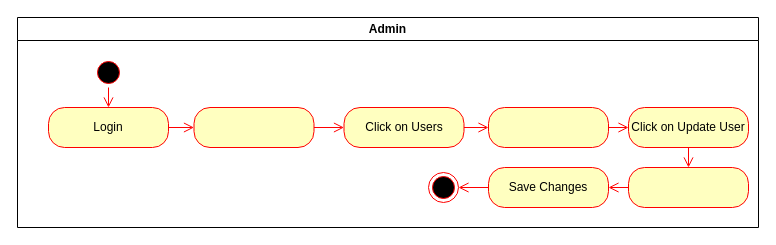
Some shapes in this 776 by 245 pixel diagram are drawn without their labels. The centre of each missing label's shape, as x and y in pixels:
"Click on a User" goes at point (548, 127).
"Update User" goes at point (688, 187).
"View Dashboard" goes at point (253, 127).
